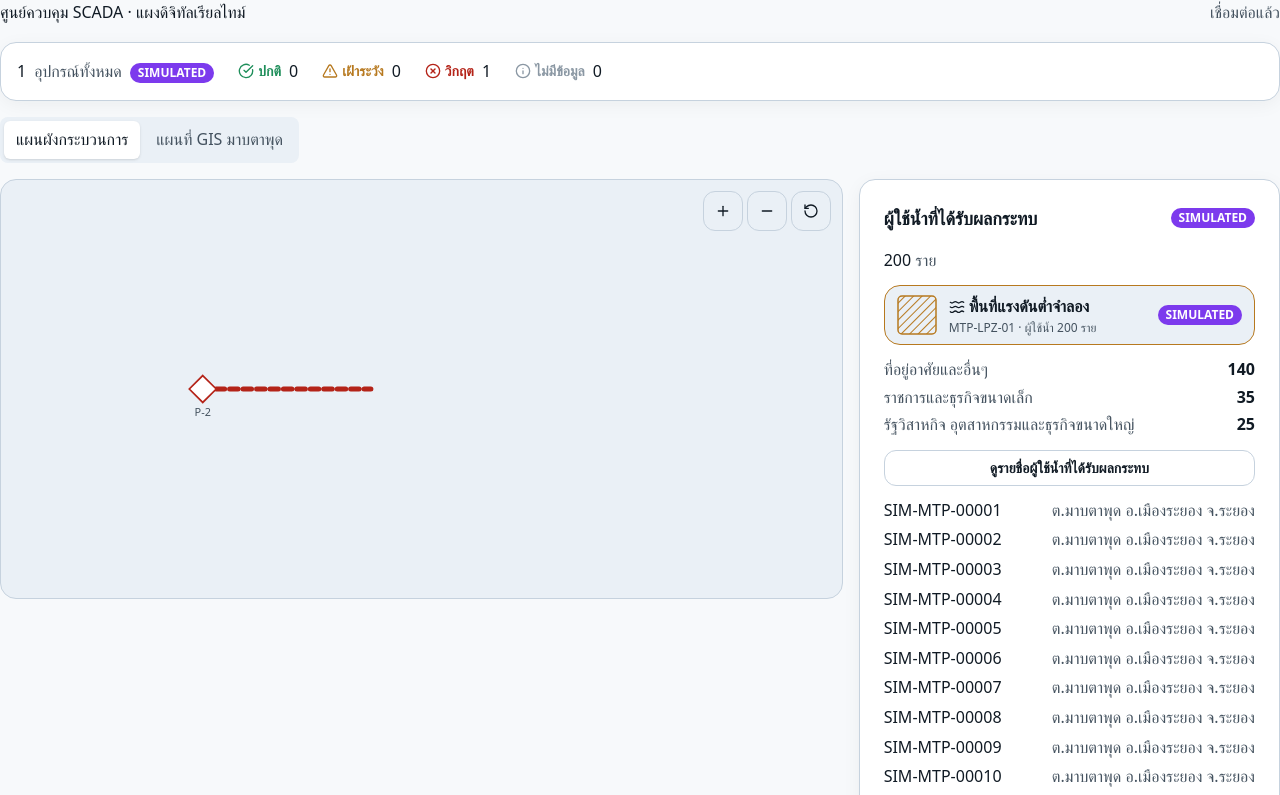
Scenario: PR-J — clickable low-pressure impact (R14/R19/R20) › T7a: a pressure drop surfaces the footprint; clicking it opens the 200-drawer with breakdown
Check: the icon with test id "twin-schematic" is shown, box [0, 179, 843, 599]
Click the button with test id "low-pressure-area".
click(1069, 315)  # box [884, 285, 1255, 345]
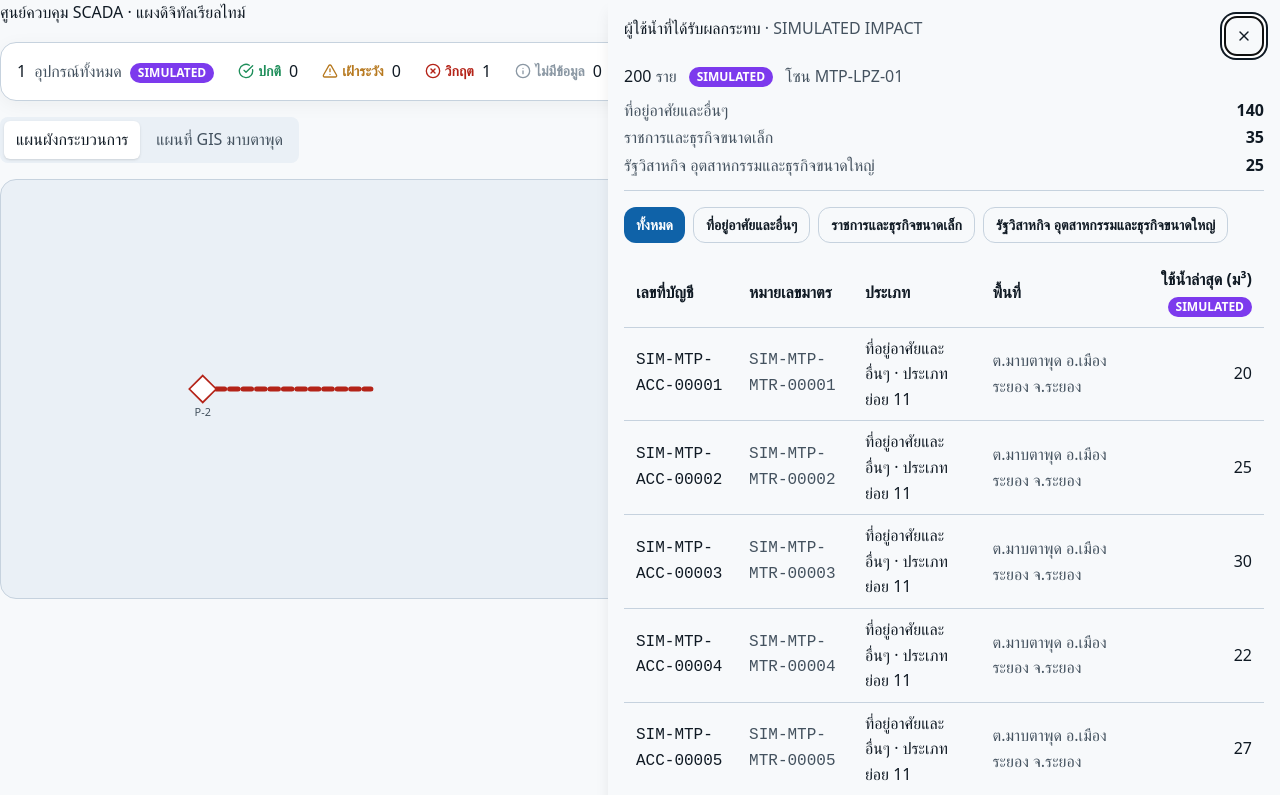
Check: the element with test id "impact-count" shows "200", box [624, 65, 652, 87]
